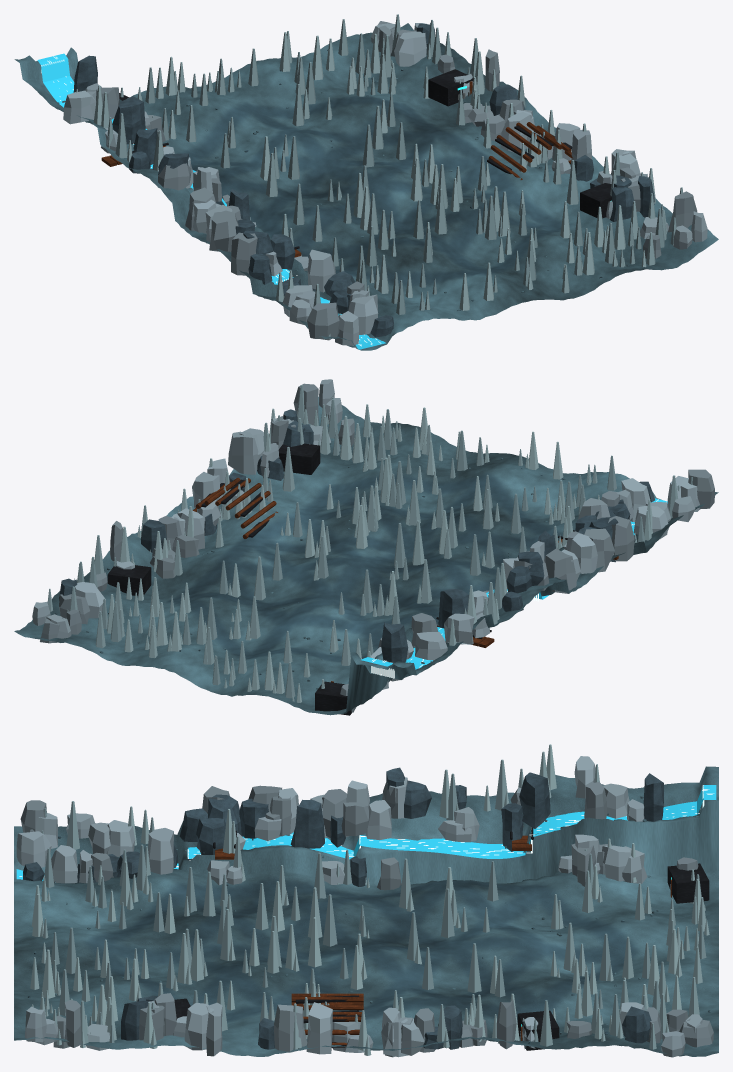
The model's file is world_1.glb.
3 views of the same model, one above another, from view 1: azimuth 30°, elevation 25°; view 2: azimuth 150°, elevation 25°; view 3: azimuth 270°, elevation 25° (orthographic). The views are drawn at different scales.
Visible parts, largest first — view 1: Terrain / sculpted relief.001, Flora / scattered miniatures.001, Cliffs / fractured strata.001, Ruins / abandoned machinery.001, Water / falls and currents.001; view 2: Terrain / sculpted relief.001, Flora / scattered miniatures.001, Cliffs / fractured strata.001, Ruins / abandoned machinery.001, Water / falls and currents.001; view 3: Terrain / sculpted relief.001, Cliffs / fractured strata.001, Flora / scattered miniatures.001, Water / falls and currents.001, Ruins / abandoned machinery.001.
Boxes of the visible parts, x1,y1,x2,y2 form: Terrain / sculpted relief.001: (14, 23, 718, 350); Flora / scattered miniatures.001: (76, 14, 682, 336); Cliffs / fractured strata.001: (57, 21, 707, 345); Ruins / abandoned machinery.001: (101, 69, 611, 257); Water / falls and currents.001: (37, 53, 385, 349); Terrain / sculpted relief.001: (14, 396, 718, 715); Flora / scattered miniatures.001: (47, 385, 692, 702); Cliffs / fractured strata.001: (32, 379, 714, 712); Ruins / abandoned machinery.001: (107, 443, 618, 715); Water / falls and currents.001: (361, 498, 667, 678); Terrain / sculpted relief.001: (14, 766, 718, 1056); Cliffs / fractured strata.001: (16, 756, 713, 1057); Flora / scattered miniatures.001: (23, 744, 709, 1055); Water / falls and currents.001: (16, 785, 716, 880); Ruins / abandoned machinery.001: (174, 826, 709, 1050).
Size of the model in its own units: 9.68 by 2.38 by 12.7.
15 materials, 5 textured.
